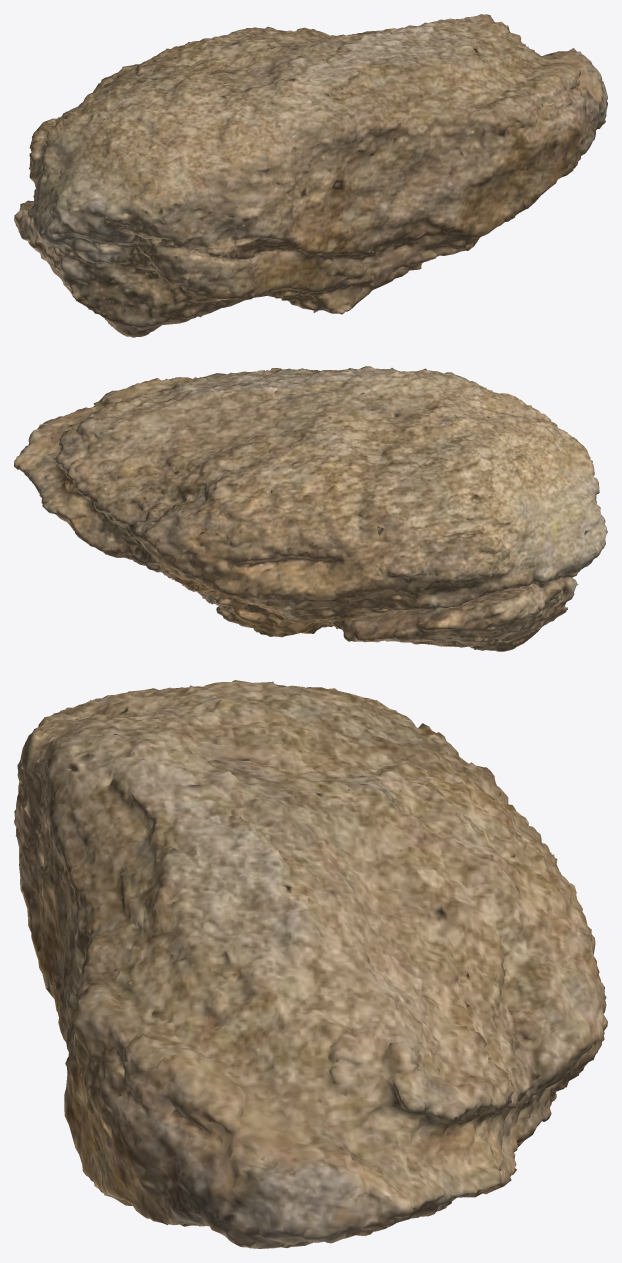
File: boulder-05.glb
3 views of the same model, one above another, from view 1: azimuth 30°, elevation 25°; view 2: azimuth 150°, elevation 25°; view 3: azimuth 270°, elevation 25° (orthographic). The views are drawn at different scales.
Parts seen in each view (by area): view 1: namaqualand_boulder_05; view 2: namaqualand_boulder_05; view 3: namaqualand_boulder_05.
Boxes of the visible parts, box(x1,y1,x2,y2) form: namaqualand_boulder_05: box(14, 14, 607, 337); namaqualand_boulder_05: box(14, 366, 607, 651); namaqualand_boulder_05: box(14, 680, 607, 1248).
Size of the model in its own units: 1.36 by 0.5384 by 0.7481.
1 material, 1 textured.
